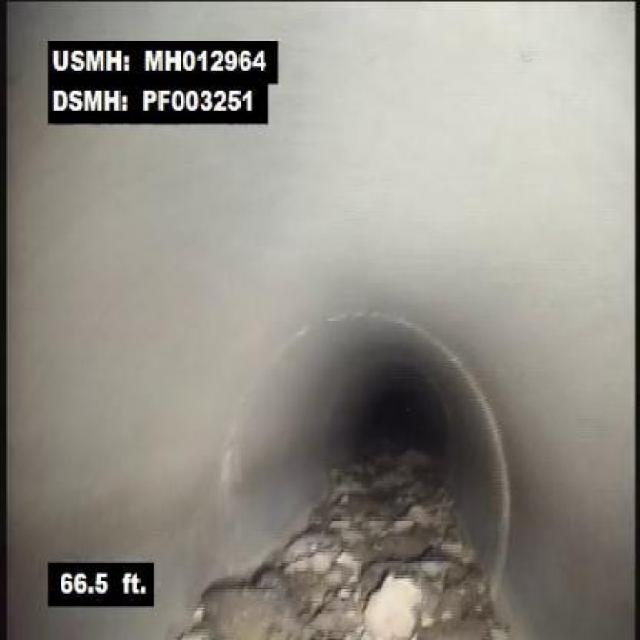Obstacle: (182, 451, 383, 638), (381, 456, 497, 638)
